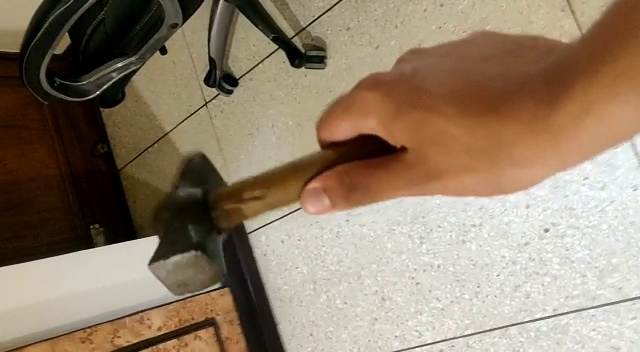hammer: (147, 148, 388, 299)
